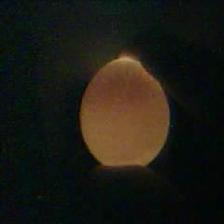infertile: (75, 55, 172, 173)
